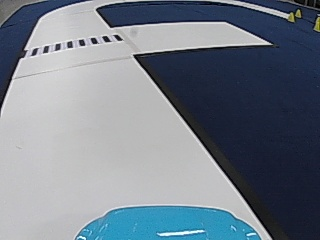CrossWalk: (25, 33, 123, 56)
